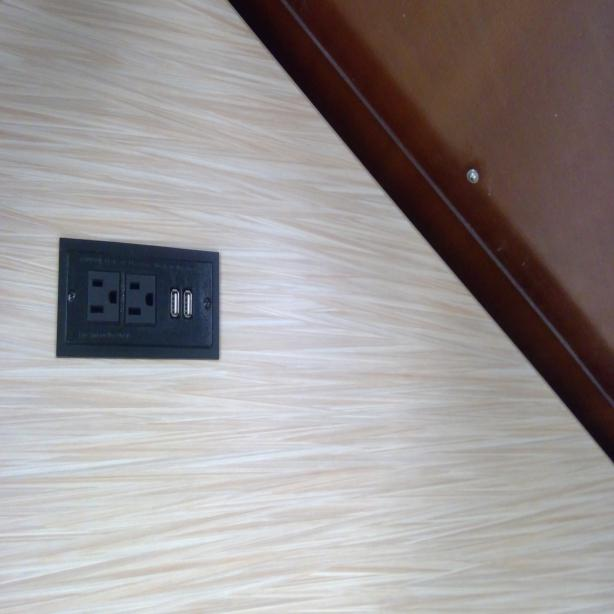typeb: (81, 272, 118, 322), (128, 276, 156, 324)
